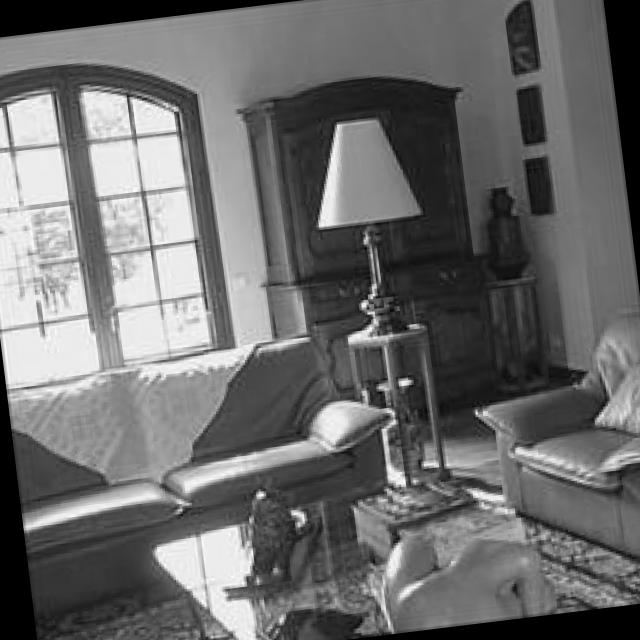armchair crop: (472, 309, 640, 555)
blanket: (6, 338, 254, 481)
boxes: (350, 476, 523, 563)
door mat: (97, 283, 117, 327)
doors crop: (0, 66, 229, 381)
lamp crop: (308, 119, 418, 330)
lampshade: (311, 114, 420, 223)
painting crop: (499, 0, 538, 70), (519, 151, 553, 209), (513, 82, 539, 142)
pillow occluded: (589, 361, 640, 430)
rug -partially obscured-: (33, 470, 640, 640)
small table part: (340, 319, 446, 480), (481, 274, 544, 387)
sofa bed: (6, 334, 388, 617)
statue: (371, 527, 554, 627), (221, 475, 322, 584)
table -X: (155, 478, 619, 640)
vase -X: (481, 182, 531, 276), (373, 374, 418, 471)
wall outlets: (225, 272, 243, 289)
wardrobe part: (239, 79, 497, 432)
